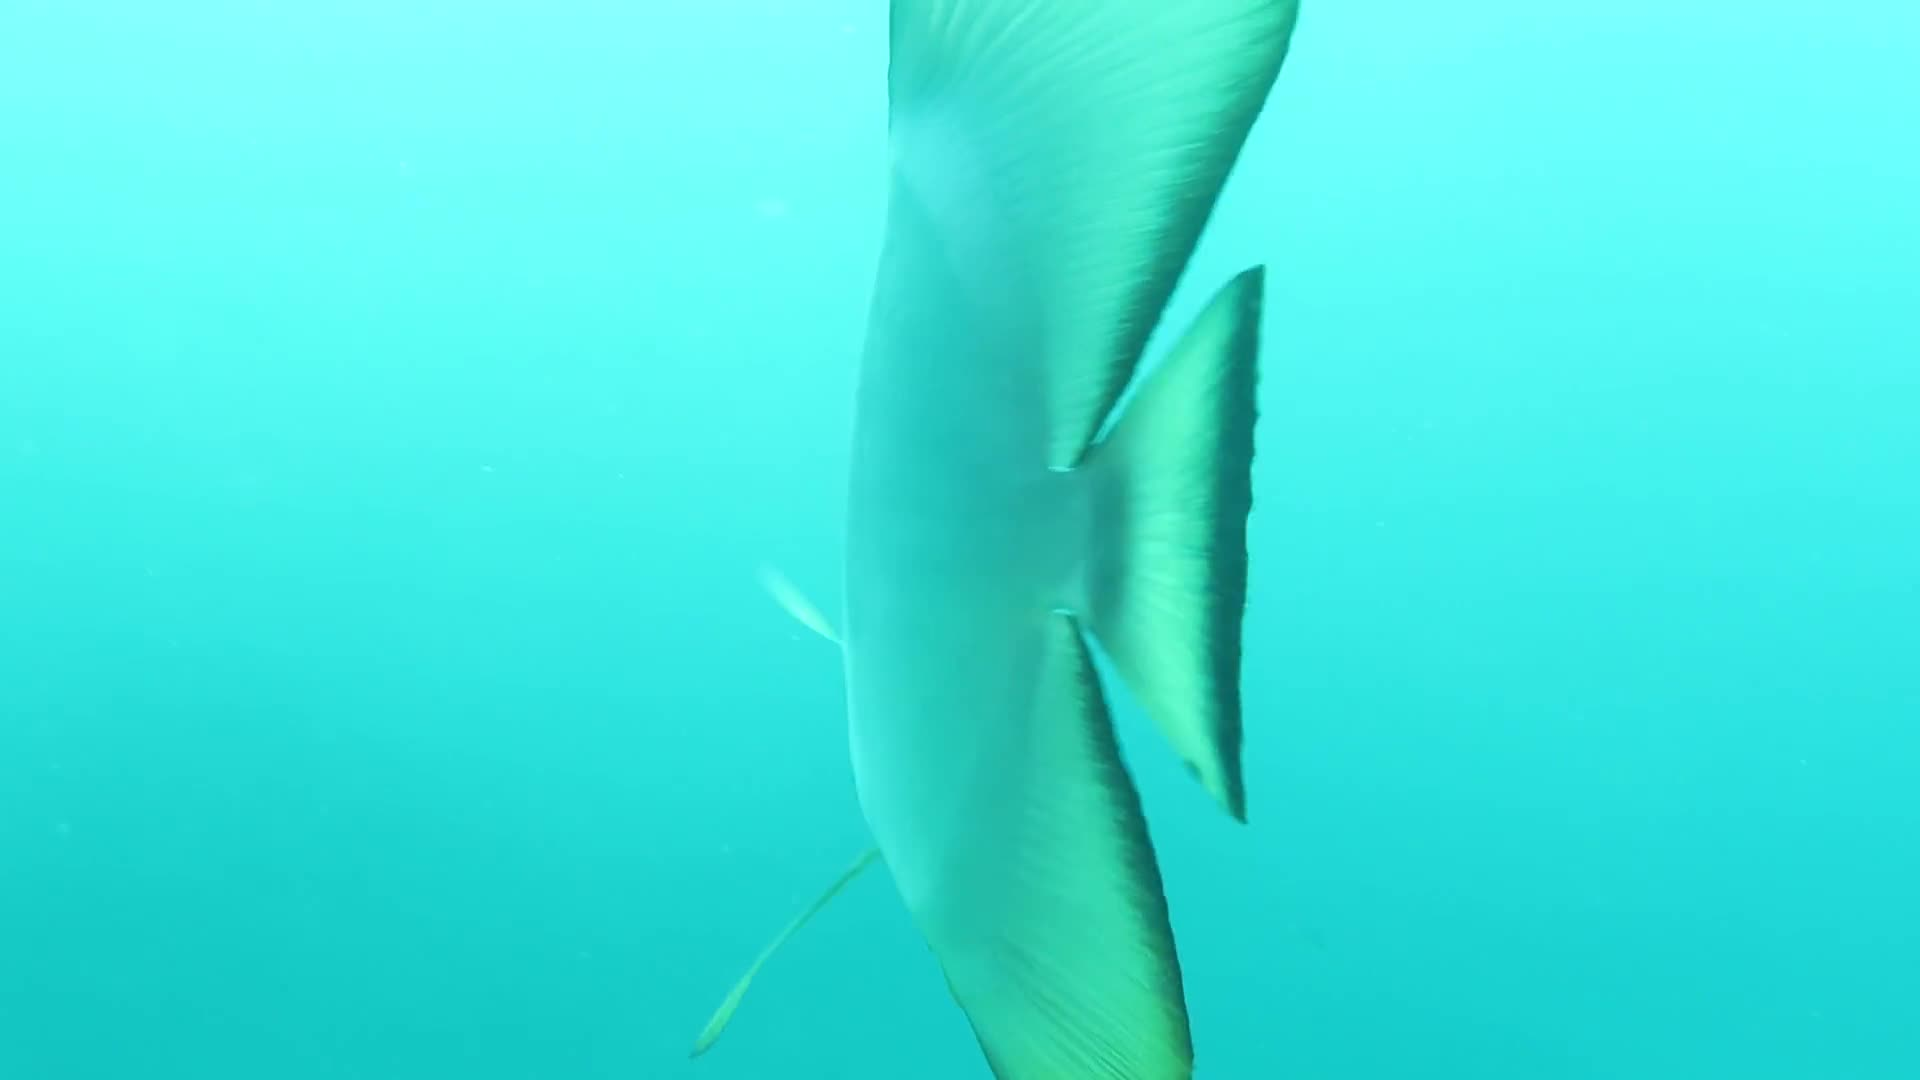Platax teira: (632, 1, 1495, 1080)
